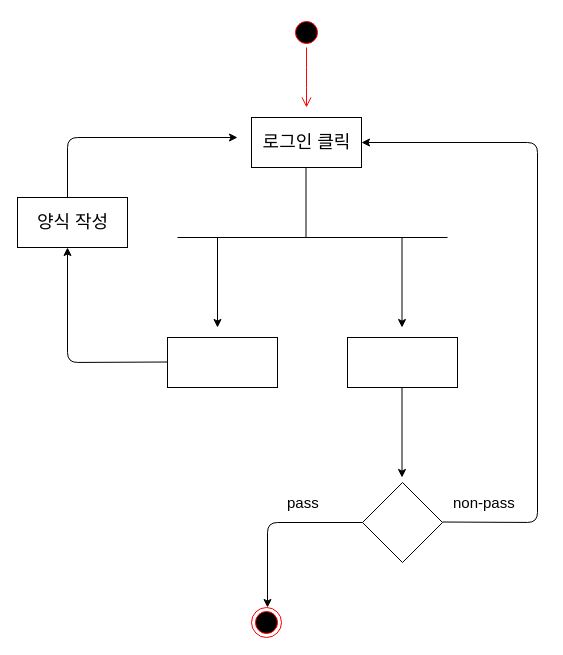
This 563x655 diagram has some shape labels left out. Here are the shapes that lost their labels. From the top down, the centre of each, then its label:
At point (222, 362): "회원가입".
At point (402, 362): "로그인".
